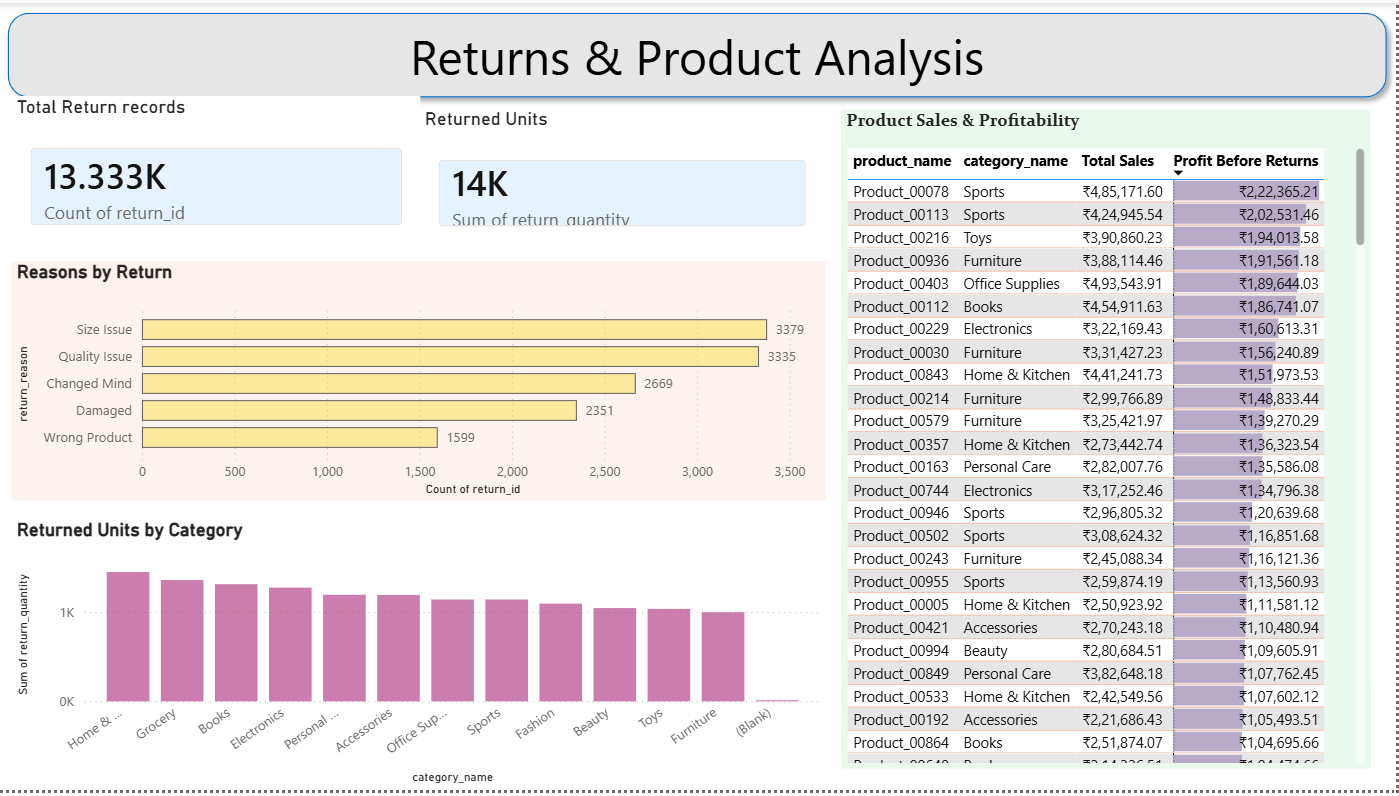

Layout of this report page (visuals, bound fields, positions):
{"tool":"powerbi","page":{"name":"Returns & Product Analysis","canvas":[1280,720],"ordinal":2},"visuals":[{"type":"shape","box":[0,0,1279.5,95.4],"z":0},{"type":"cardVisual","title":"Total Return records","fields":{"Data":["Count(returns.return_id)"]},"box":[12.1,84.8,374,136.3],"z":1000},{"type":"cardVisual","title":"Returned Units","fields":{"Data":["Sum(returns.return_quantity)"]},"box":[386.1,95.4,371,125.7],"z":2000},{"type":"clusteredBarChart","title":"Reasons by Return","fields":{"Y":["Count(returns.return_id)"],"Category":["returns.return_reason"]},"box":[12.1,236.2,745,219.6],"z":3000},{"type":"clusteredColumnChart","title":"Returned Units by Category","fields":{"Y":["Sum(returns.return_quantity)"],"Category":["categories.category_name"]},"box":[12.1,472.4,745,246.8],"z":4000},{"type":"tableEx","title":"Product Sales & Profitability","fields":{"Values":["products.product_name","categories.category_name","DateTable.Total Sales","DateTable.Profit Before Returns"]},"box":[770.7,96.9,484.5,602.7],"z":5000}]}

Visuals, with their boxes in screenshot pixels (x1, y1, x2, y2), scaled from the page's 1280x720 canvas onto the 1399x796 screenshot:
shape: <region>0, 0, 1398, 105</region>
"Total Return records" cardVisual: <region>13, 94, 422, 244</region>
"Returned Units" cardVisual: <region>422, 105, 827, 244</region>
"Reasons by Return" clusteredBarChart: <region>13, 261, 827, 504</region>
"Returned Units by Category" clusteredColumnChart: <region>13, 522, 827, 795</region>
"Product Sales & Profitability" tableEx: <region>842, 107, 1372, 773</region>
